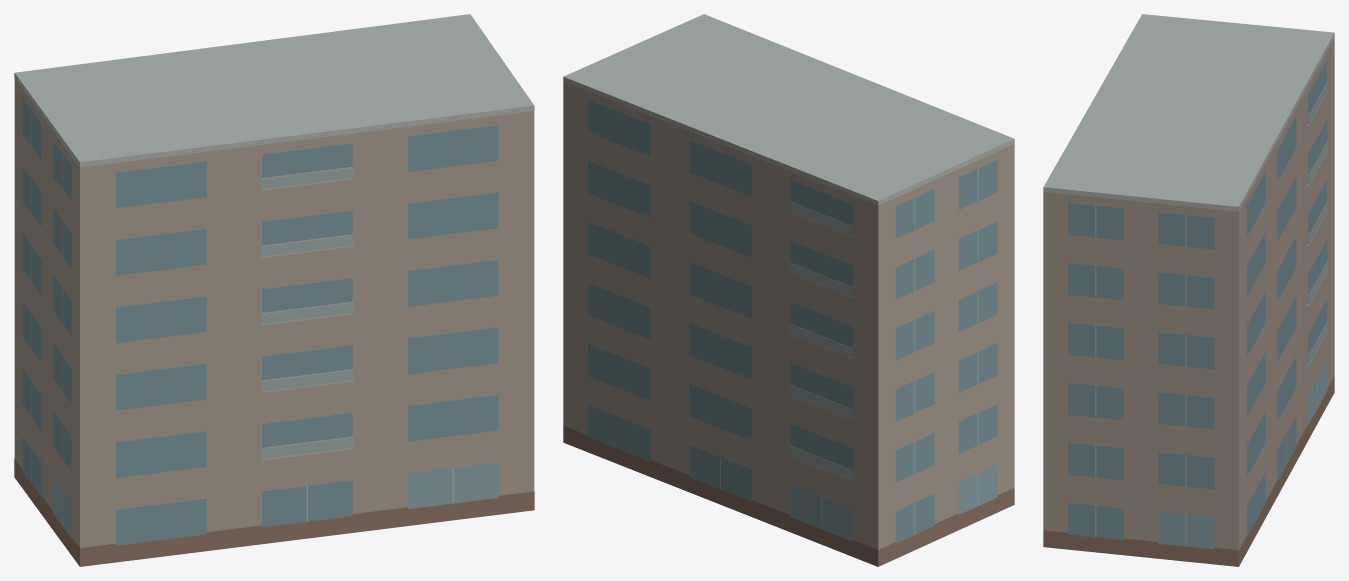
The model's file is survey-upis-32545981.glb.
The picture shows the model from 3 angles, left to right: view 1: azimuth 30°, elevation 25°; view 2: azimuth 150°, elevation 25°; view 3: azimuth 270°, elevation 25°; orthographic projection. The views are drawn at different scales.
Parts seen in each view (by area): view 1: survey-upis-32545981.tmp; view 2: survey-upis-32545981.tmp; view 3: survey-upis-32545981.tmp.
Part boxes in pixels (left/top/right/bottom): survey-upis-32545981.tmp: left=14, top=14, right=534, bottom=566; survey-upis-32545981.tmp: left=563, top=14, right=1014, bottom=566; survey-upis-32545981.tmp: left=1043, top=14, right=1334, bottom=566.
Size of the model in its own units: 21.06 by 18.3 by 13.43.
